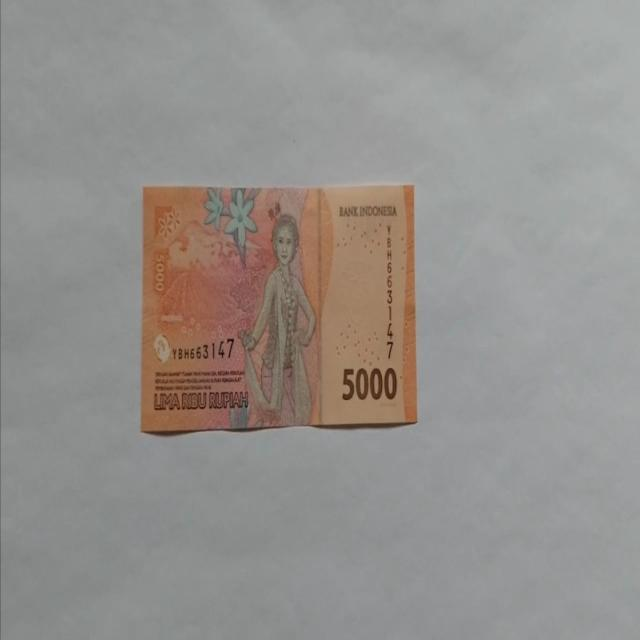lima ribu rupiah: (140, 182, 418, 434), (236, 212, 318, 428)
